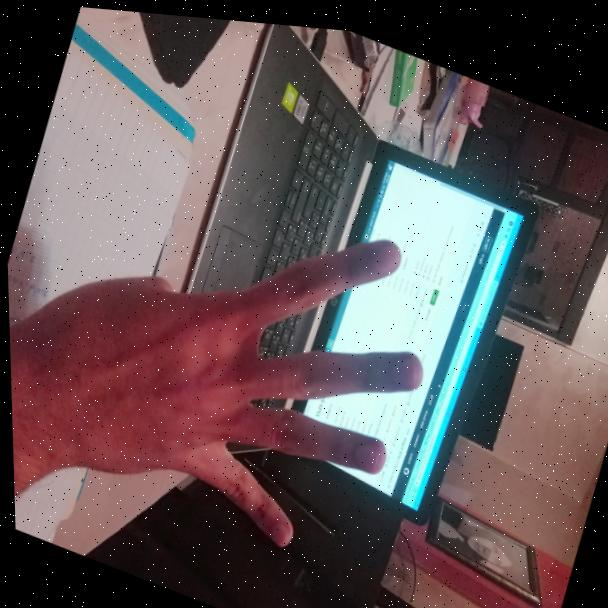four: (5, 115, 464, 588)
